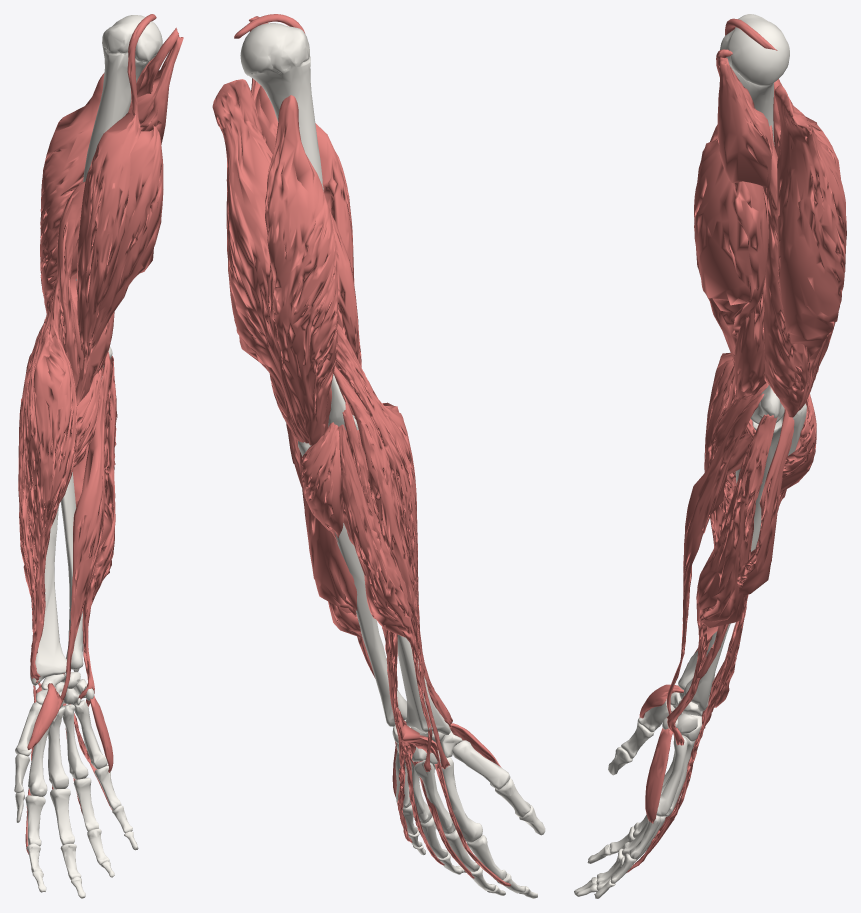
Rendered from anatomical_arm.glb.
3 views of the same model, side by side, from view 1: azimuth 30°, elevation 25°; view 2: azimuth 150°, elevation 25°; view 3: azimuth 270°, elevation 25° (orthographic). The views are drawn at different scales.
Parts seen in each view (by area): view 1: Brachioradialis muscle.r, Long head of biceps brachii.r, Short head of biceps brachii.r, Lateral head of triceps brachii.r, Flexor carpi radialis.r, Brachialis muscle.r, Humerus.r, Humeral head of flexor carpi ulnaris.r, Radius.r, Extensor carpi radialis longus.r, Coracobrachialis muscle.r, Ulna.r (+17 smaller); view 2: Lateral head of triceps brachii.r, Long head of triceps brachii.r, Extensor digitorum.r, Humerus.r, Extensor carpi radialis longus.r, Brachioradialis muscle.r, Extensor carpi radialis brevis.r, Anconeus muscle.r, Ulnar head of flexor carpi ulnaris.r, Ulna.r, Long head of biceps brachii.r, Brachialis muscle.r (+6 smaller); view 3: Long head of triceps brachii.r, Short head of biceps brachii.r, Humeral head of flexor carpi ulnaris.r, Medial head of triceps brachii.r, Coracobrachialis muscle.r, Humerus.r, Flexor carpi radialis.r, Ulnar head of flexor carpi ulnaris.r, Brachialis muscle.r, Extensor digitorum.r, Brachioradialis muscle.r, Ulna.r (+8 smaller).
Part boxes in pixels (x1=…): Brachioradialis muscle.r: x1=24, y1=275, x2=77, y2=682; Long head of biceps brachii.r: x1=75, y1=14, x2=156, y2=404; Short head of biceps brachii.r: x1=88, y1=27, x2=178, y2=348; Lateral head of triceps brachii.r: x1=40, y1=73, x2=104, y2=313; Flexor carpi radialis.r: x1=55, y1=352, x2=110, y2=717; Brachialis muscle.r: x1=57, y1=181, x2=114, y2=399; Humerus.r: x1=76, y1=15, x2=162, y2=367; Humeral head of flexor carpi ulnaris.r: x1=78, y1=356, x2=117, y2=706; Radius.r: x1=30, y1=504, x2=66, y2=685; Extensor carpi radialis longus.r: x1=18, y1=322, x2=44, y2=702; Coracobrachialis muscle.r: x1=128, y1=36, x2=183, y2=144; Ulna.r: x1=60, y1=472, x2=83, y2=671; Lateral head of triceps brachii.r: x1=265, y1=95, x2=338, y2=445; Long head of triceps brachii.r: x1=212, y1=79, x2=308, y2=443; Extensor digitorum.r: x1=338, y1=424, x2=510, y2=886; Humerus.r: x1=240, y1=23, x2=358, y2=430; Extensor carpi radialis longus.r: x1=333, y1=366, x2=450, y2=769; Brachioradialis muscle.r: x1=335, y1=324, x2=452, y2=727; Extensor carpi radialis brevis.r: x1=342, y1=395, x2=432, y2=771; Anconeus muscle.r: x1=301, y1=422, x2=344, y2=542; Ulnar head of flexor carpi ulnaris.r: x1=299, y1=450, x2=375, y2=678; Ulna.r: x1=298, y1=441, x2=406, y2=726; Long head of biceps brachii.r: x1=234, y1=14, x2=354, y2=283; Brachialis muscle.r: x1=329, y1=208, x2=361, y2=415; Long head of triceps brachii.r: x1=774, y1=85, x2=846, y2=411; Short head of biceps brachii.r: x1=694, y1=49, x2=768, y2=361; Humeral head of flexor carpi ulnaris.r: x1=667, y1=414, x2=777, y2=745; Medial head of triceps brachii.r: x1=763, y1=125, x2=807, y2=417; Coracobrachialis muscle.r: x1=717, y1=57, x2=772, y2=200; Humerus.r: x1=720, y1=14, x2=789, y2=424; Flexor carpi radialis.r: x1=666, y1=393, x2=764, y2=714; Ulnar head of flexor carpi ulnaris.r: x1=696, y1=409, x2=794, y2=679; Brachialis muscle.r: x1=733, y1=278, x2=766, y2=438; Extensor digitorum.r: x1=626, y1=489, x2=786, y2=873; Brachioradialis muscle.r: x1=687, y1=352, x2=736, y2=664; Ulna.r: x1=684, y1=403, x2=806, y2=711.
Size of the model in its own units: 0.2008 by 0.7092 by 0.1843.
